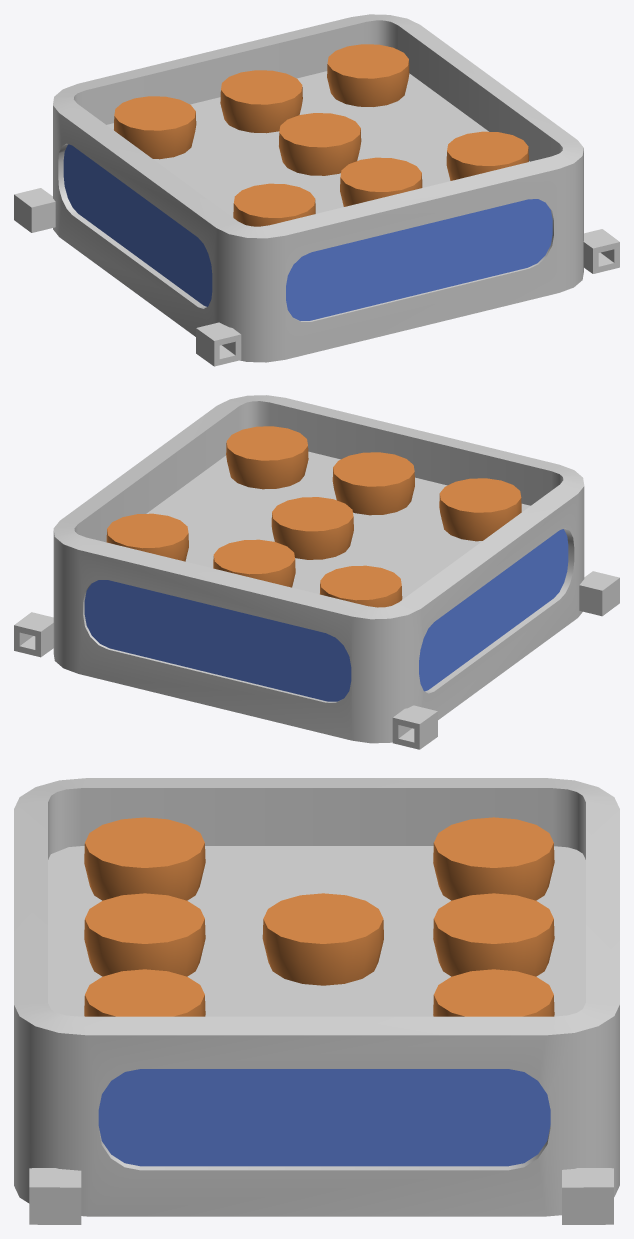
The picture shows the model from 3 angles, top to bottom: view 1: azimuth 30°, elevation 25°; view 2: azimuth 150°, elevation 25°; view 3: azimuth 270°, elevation 25°; orthographic projection. The views are drawn at different scales.
Visible parts, largest first — view 1: 7; view 2: 7; view 3: 7.
Part boxes in pixels (bbox=[...]): 7: bbox=[14, 14, 619, 366]; 7: bbox=[14, 395, 619, 749]; 7: bbox=[14, 778, 619, 1224].
Size of the model in its own units: 21.59 by 6.6 by 19.1.
